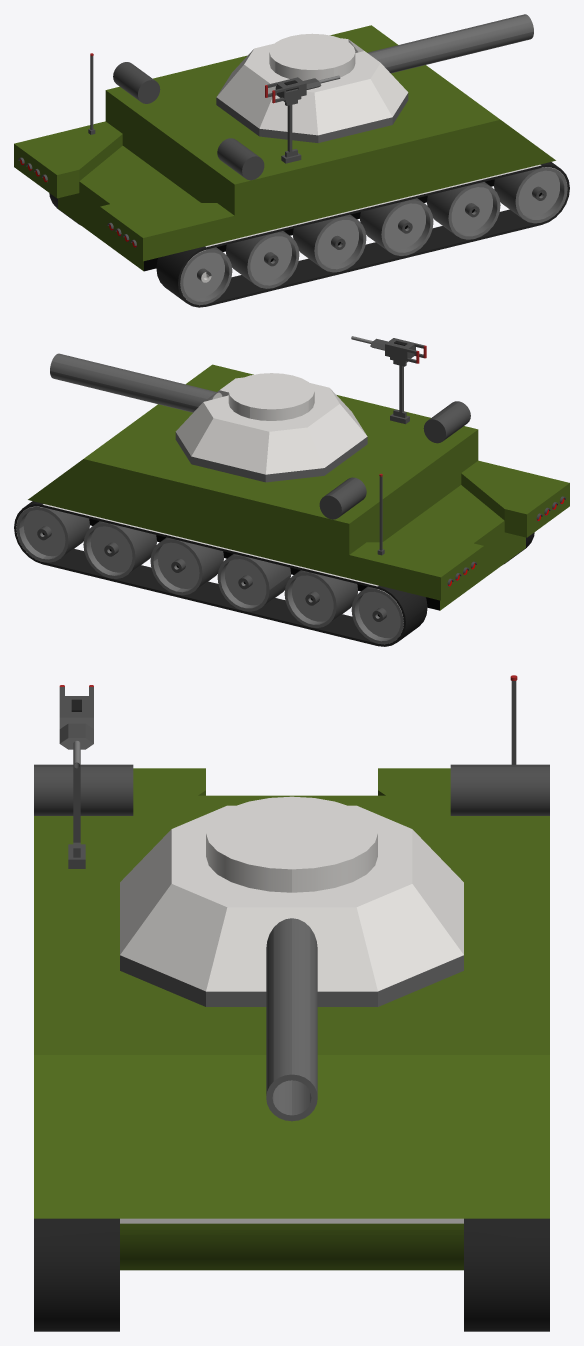
The model's file is tank.fbx.
3 renders of one model, top to bottom at view 1: azimuth 30°, elevation 25°; view 2: azimuth 150°, elevation 25°; view 3: azimuth 270°, elevation 25°, orthographic. The views are drawn at different scales.
Parts seen in each view (by area): view 1: Model; view 2: Model; view 3: Model.
Part boxes in pixels (x1,y1,x2,y2): Model: (14,14,569,307); Model: (14,336,569,646); Model: (34,675,549,1331).
Size of the model in its own units: 6.06 by 2.48 by 3.
